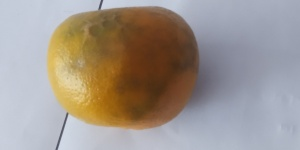BAD: (49, 8, 200, 129)
